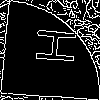H: (25, 24, 77, 65)
